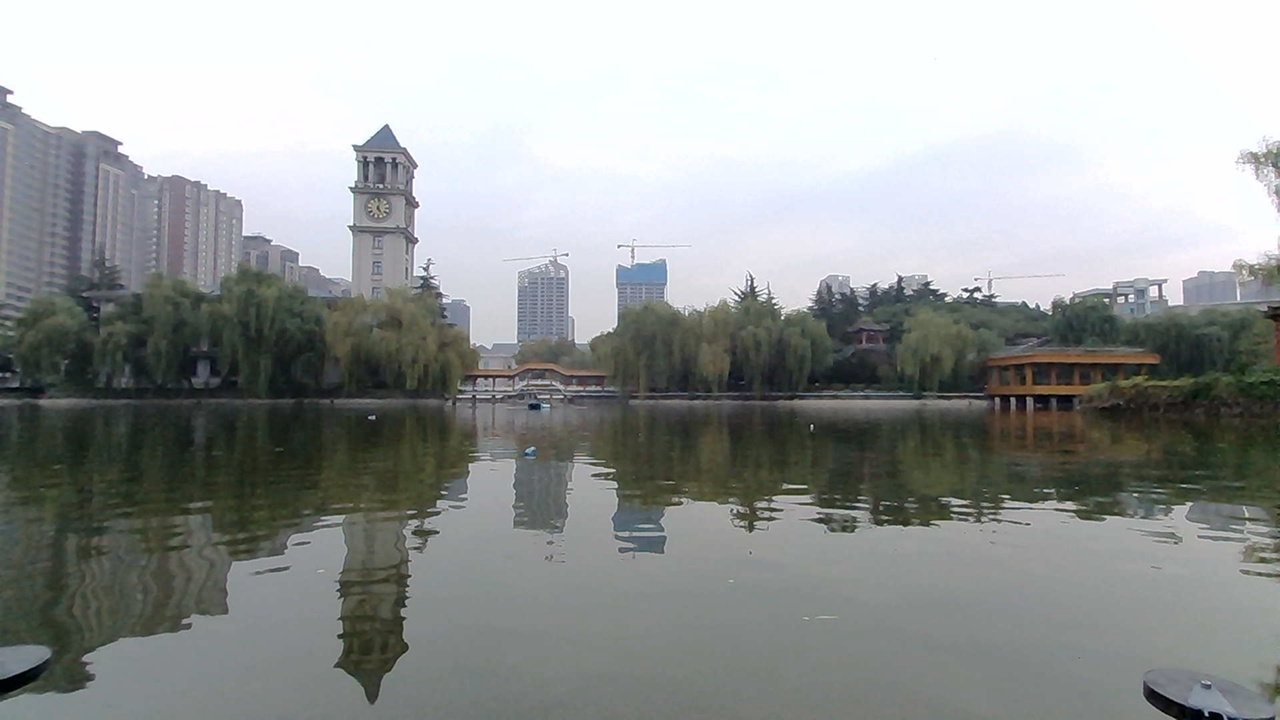bottle: (515, 433, 556, 462), (799, 417, 830, 438), (364, 405, 390, 424)
